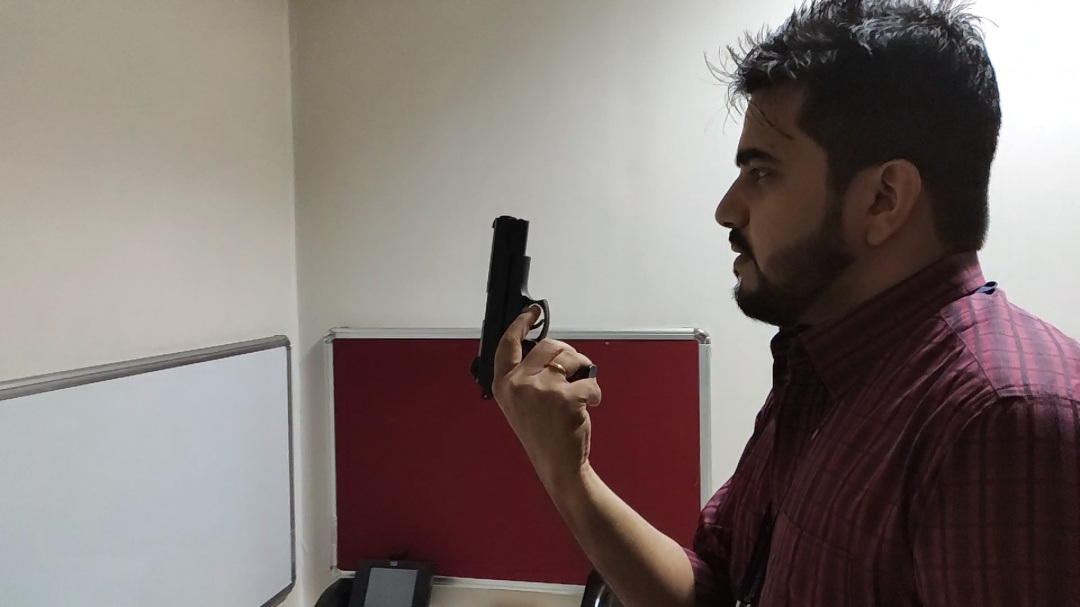gun: (470, 213, 597, 401)
